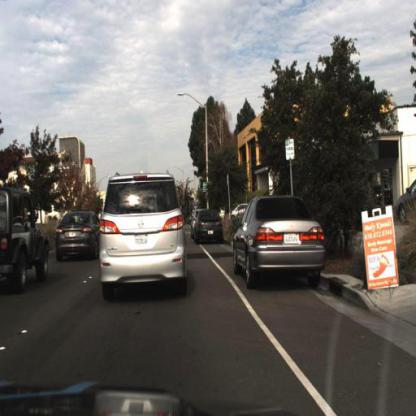car: (92, 166, 193, 307), (229, 192, 332, 298), (1, 171, 54, 301), (2, 180, 55, 289), (54, 202, 106, 275), (192, 206, 223, 249), (393, 175, 416, 224)
